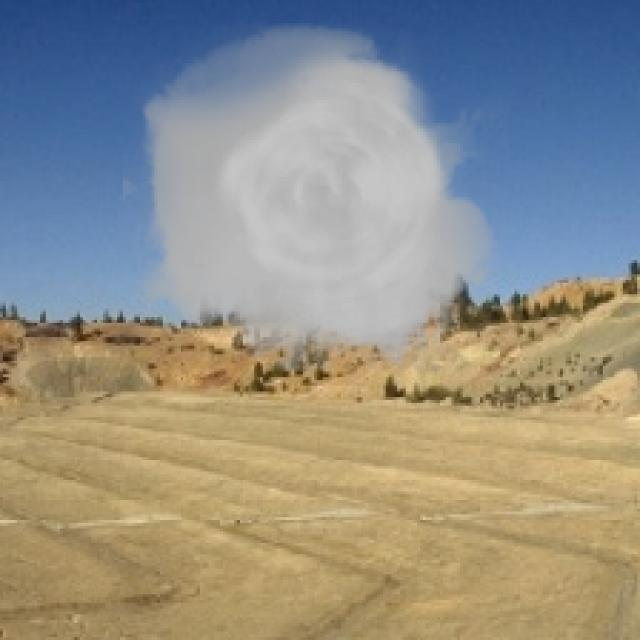smoke: (123, 23, 508, 371)
